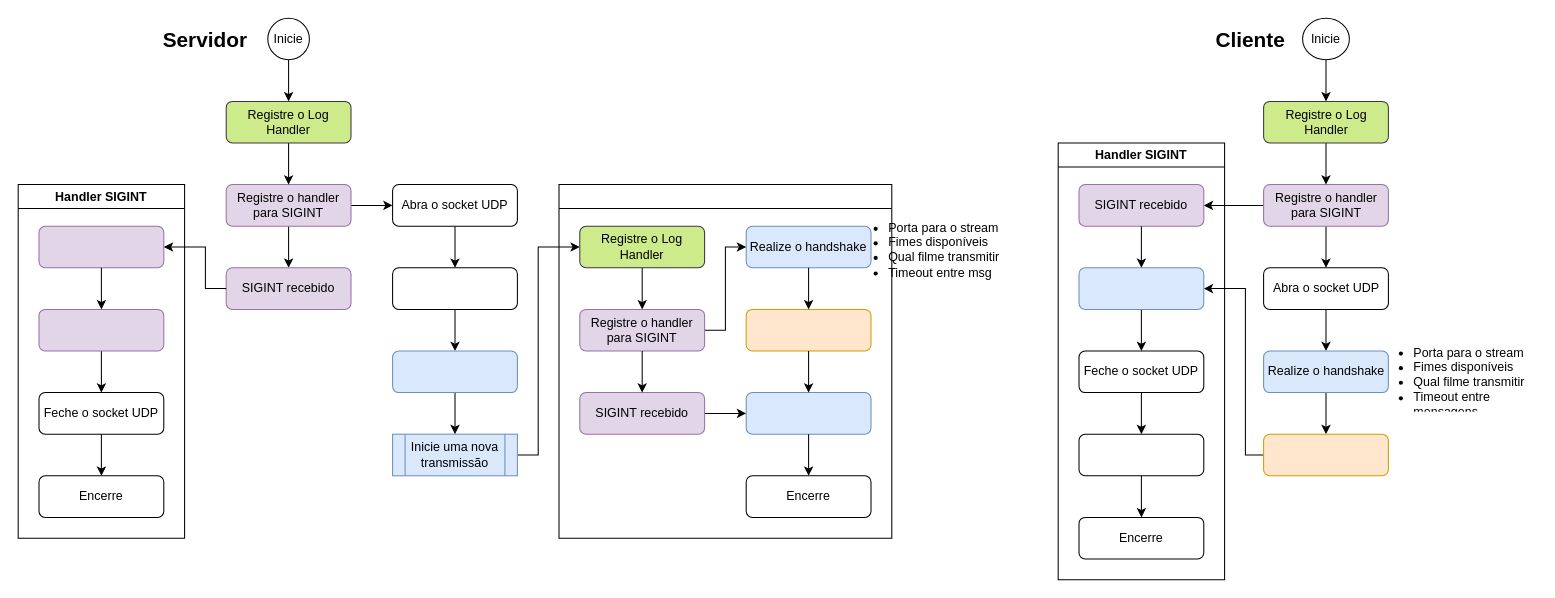
Some shapes in this 1555 by 598 pixel diagram are drawn without their labels. Here are the shapes that lost their labels. From the top down, the box of each, then its label:
(38, 225, 164, 268): Espere os filhos encerrarem
(392, 267, 517, 309): Espere o cliente iniciar o handshake
(1078, 267, 1204, 309): Encerre a conexão com o servidor
(38, 308, 164, 351): Todos os filhos encerraram
(745, 308, 871, 351): Transmita o filme
(392, 350, 517, 393): Cliente iniciou o handshake
(558, 184, 892, 538): Transmissão
(745, 392, 871, 434): Encerre a conexão com o cliente
(1078, 433, 1204, 476): Gere as estatísticas
(1263, 433, 1388, 476): Assista ao filme
